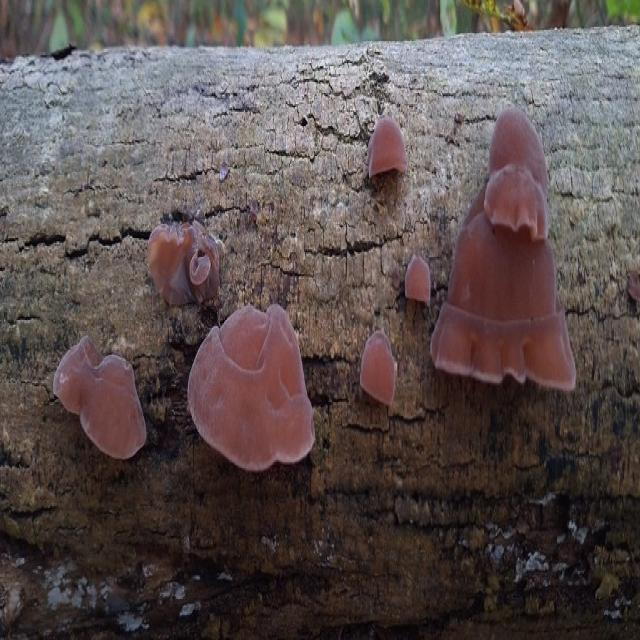Fase Muda: (192, 297, 319, 470), (53, 328, 151, 472), (486, 102, 564, 255), (148, 215, 224, 303), (358, 318, 397, 424), (367, 115, 419, 189)
Matang: (443, 209, 582, 410)
primordia: (404, 250, 436, 316)
